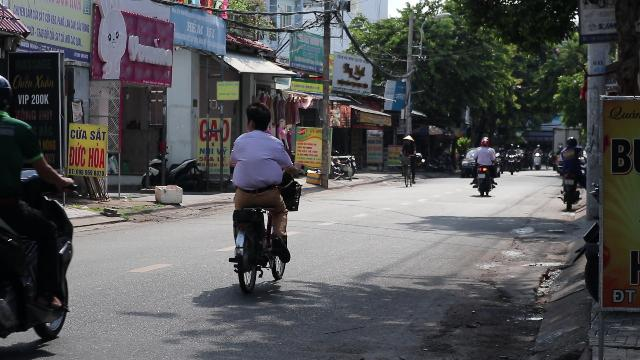helmet: (1, 74, 16, 116)
motorcyclist: (0, 69, 80, 359), (222, 103, 300, 294)
nohelmet: (244, 103, 272, 133)
